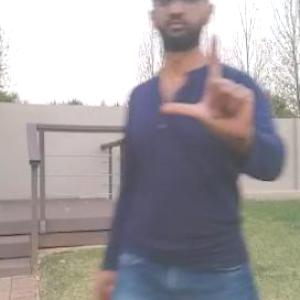land_hand: (159, 26, 266, 142)
